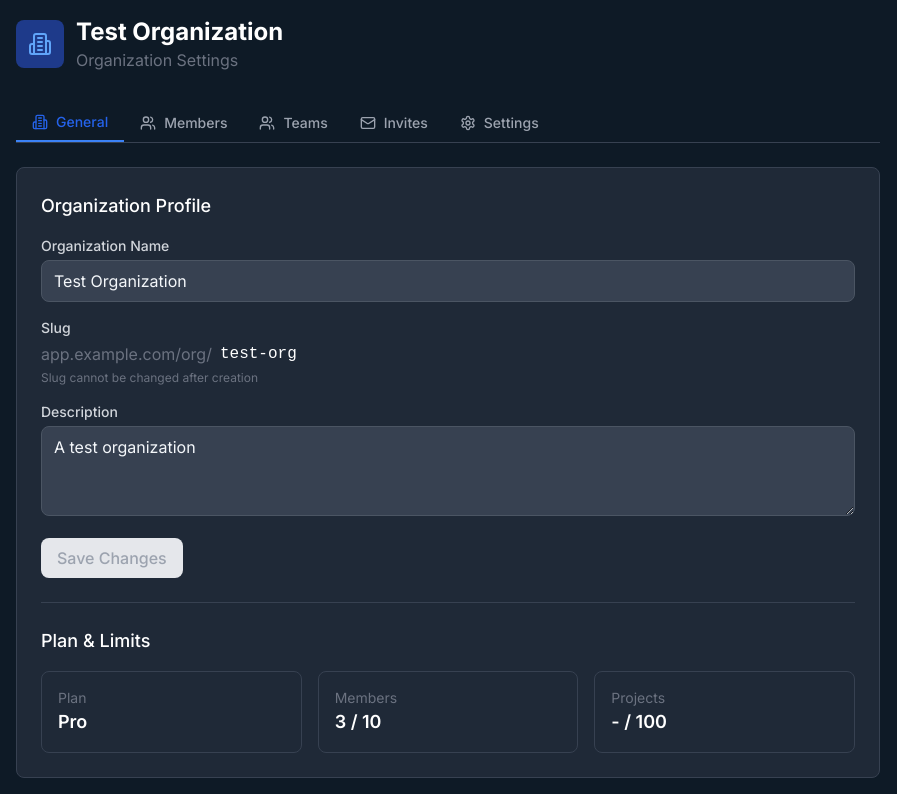
Test: OrganizationSettingsPage › Admin Role Check › hides admin features when user is viewer
Expected: the heading "Test Organization" is shown, [76,16,283,48]
Switch to members tab
Click the button "Members".
click(184, 123)  # box [124,104,244,142]
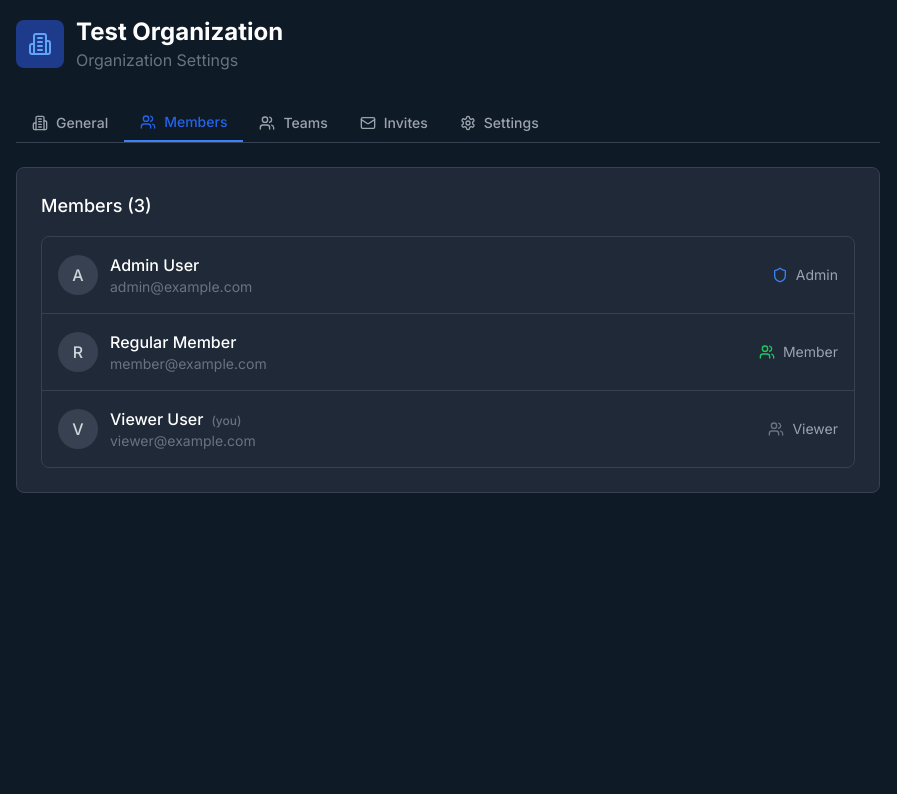
Expected: the text "Viewer User" is shown, [110,409,203,429]
